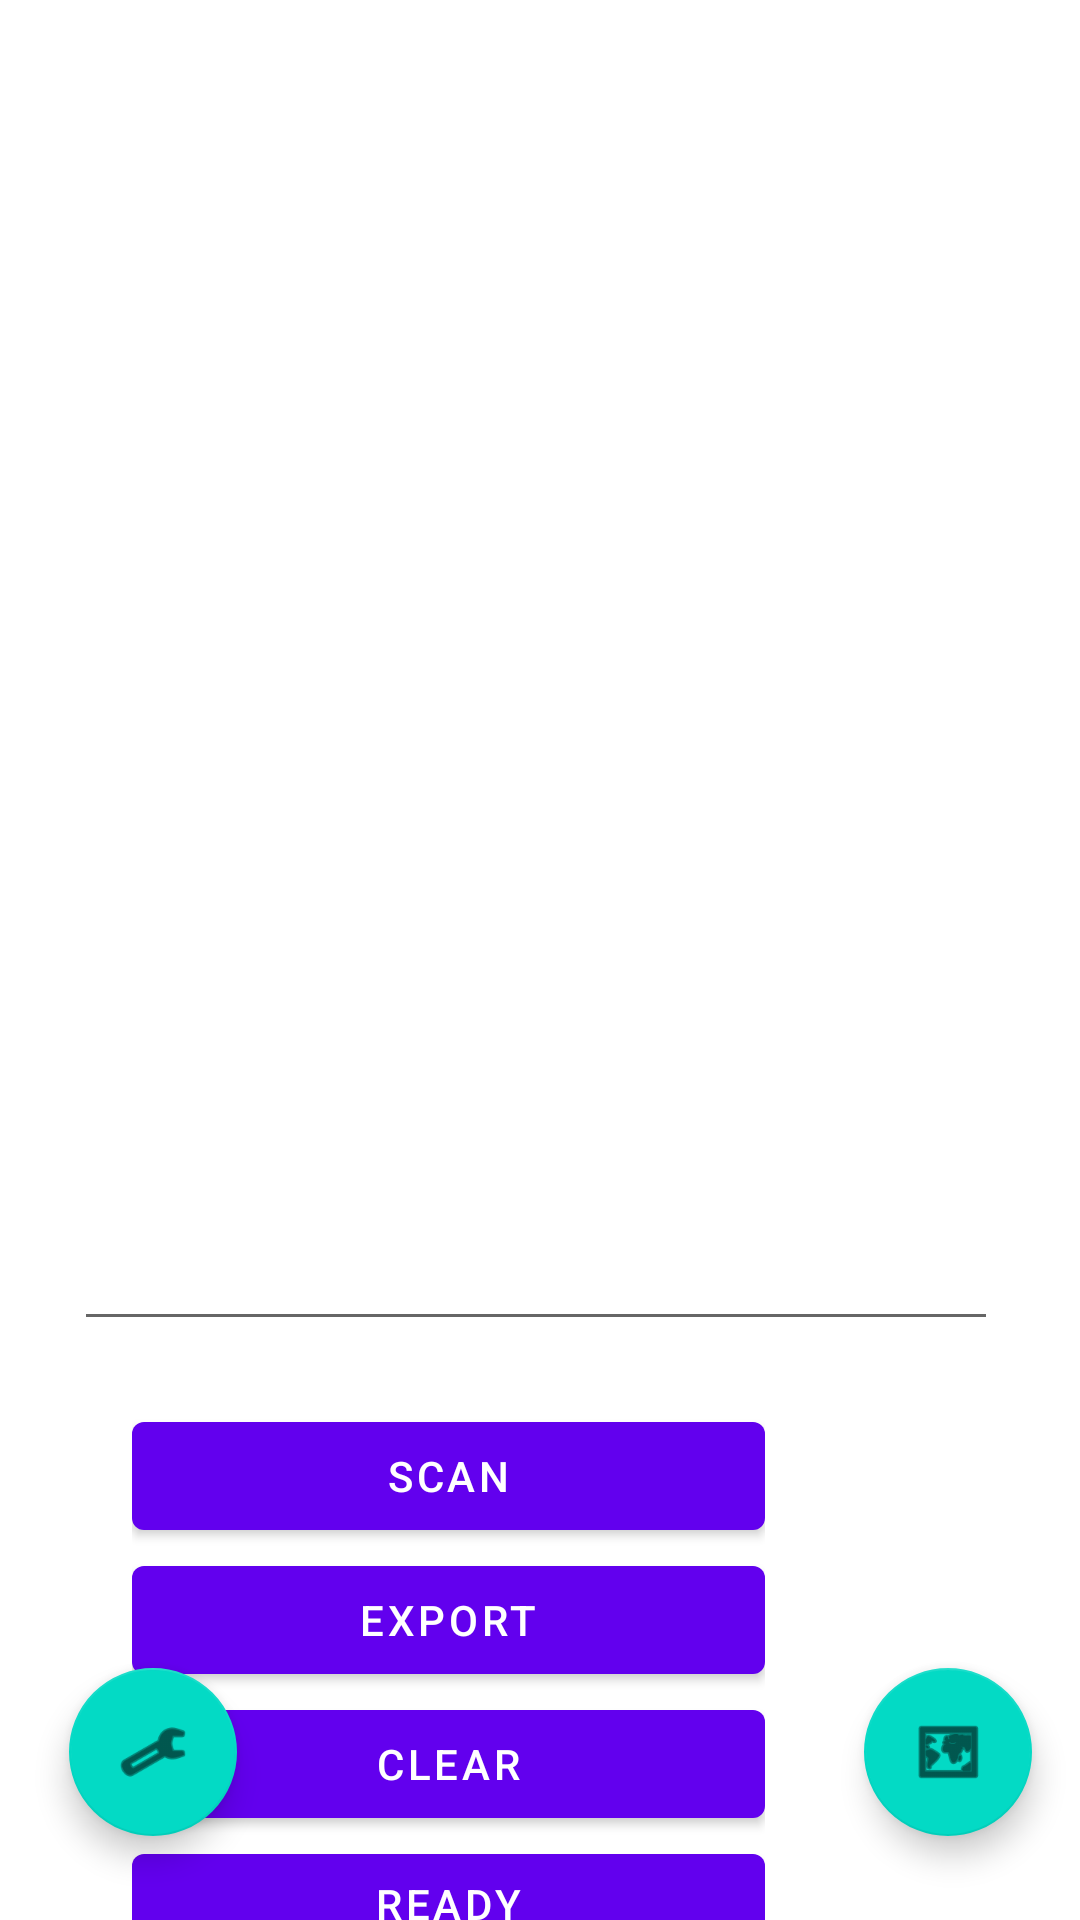

Named icons in this screenshot (1080w x 1920h) and their centers, (x,y):
manage: (153,1752)
To Map: (948,1752)
